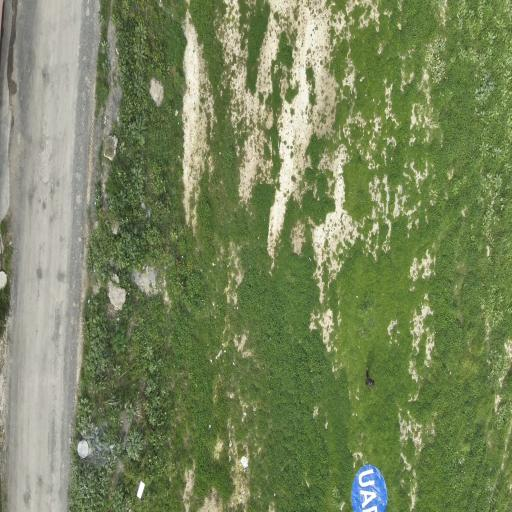UAP: (352, 465, 387, 511)
person: (366, 368, 374, 387)
